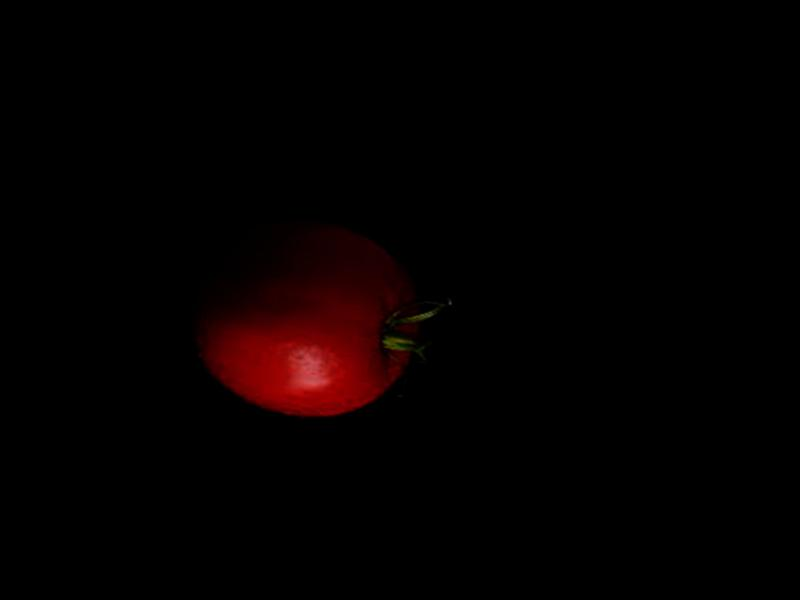Tomato: (185, 205, 433, 431)
